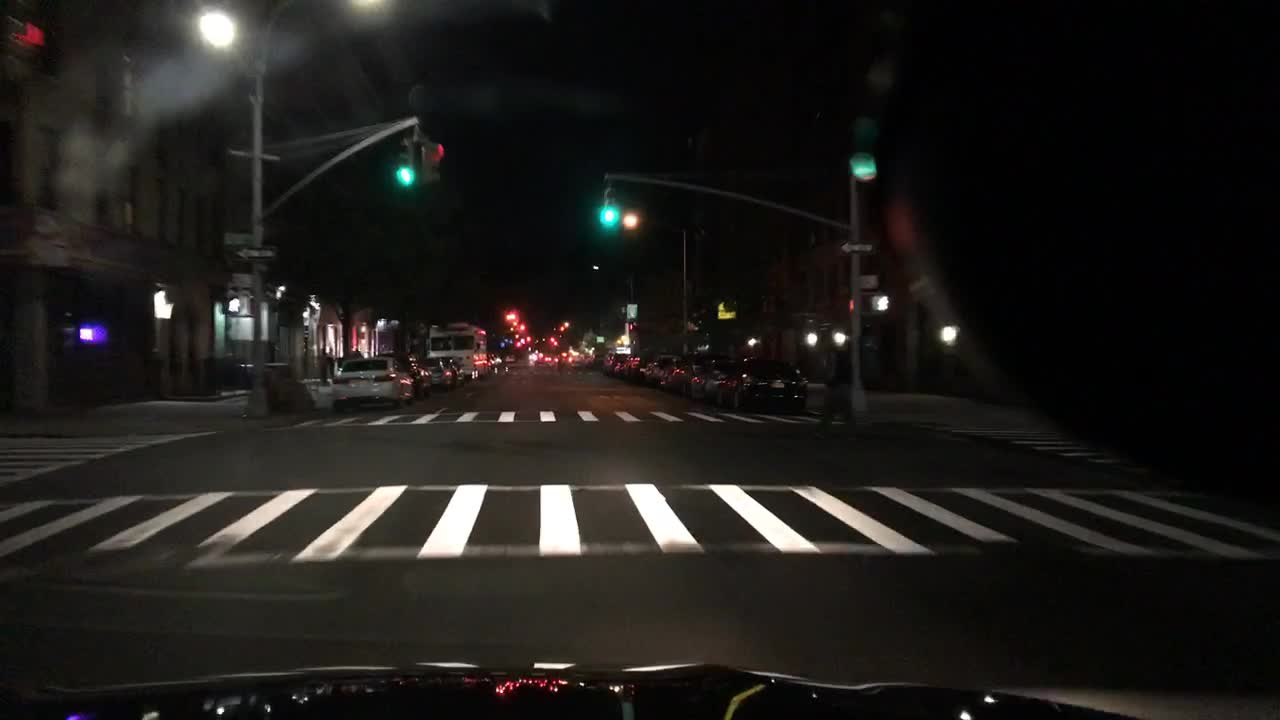bus: (428, 320, 489, 380)
car: (708, 354, 813, 415), (329, 354, 411, 413), (381, 347, 433, 398), (688, 354, 735, 408), (654, 347, 703, 396), (638, 347, 675, 388), (622, 349, 651, 381), (422, 356, 450, 388), (442, 354, 465, 386), (609, 353, 631, 374), (482, 347, 503, 366), (597, 351, 614, 371), (552, 349, 572, 366), (499, 347, 518, 363), (535, 353, 550, 366)
traffic light: (5, 10, 42, 81), (418, 133, 445, 187), (599, 185, 617, 229), (395, 135, 410, 185), (219, 293, 244, 319), (864, 292, 889, 312), (843, 295, 855, 310), (516, 320, 525, 339), (504, 312, 513, 327), (557, 320, 563, 336)
traffic sign: (848, 154, 876, 184), (234, 245, 273, 263), (838, 236, 877, 253), (222, 229, 253, 246), (714, 300, 734, 322), (855, 272, 879, 288), (233, 268, 253, 287), (624, 302, 638, 317)
